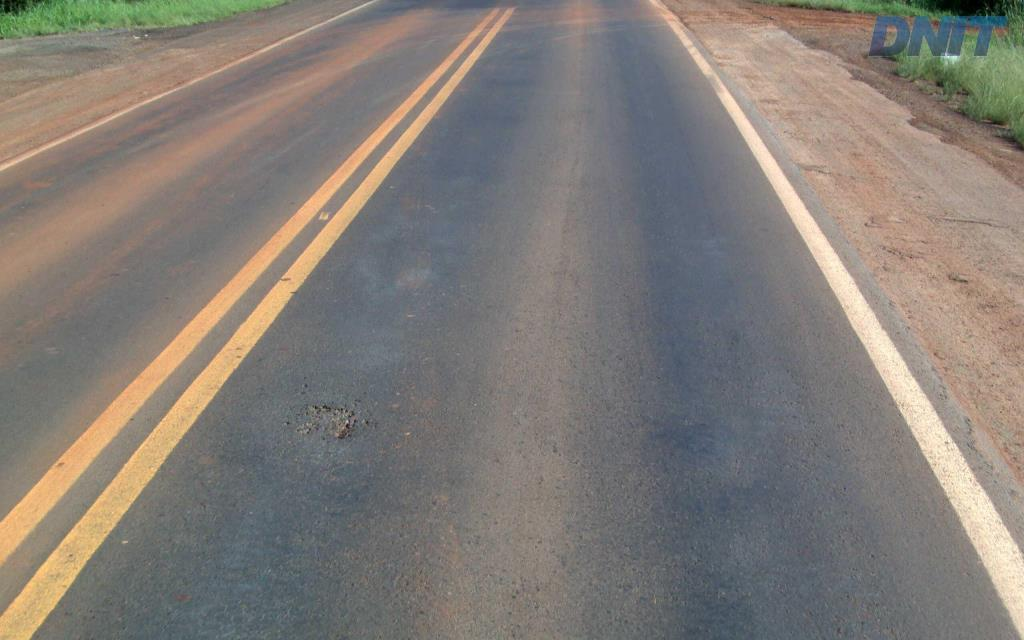pothole: (286, 396, 367, 446)
